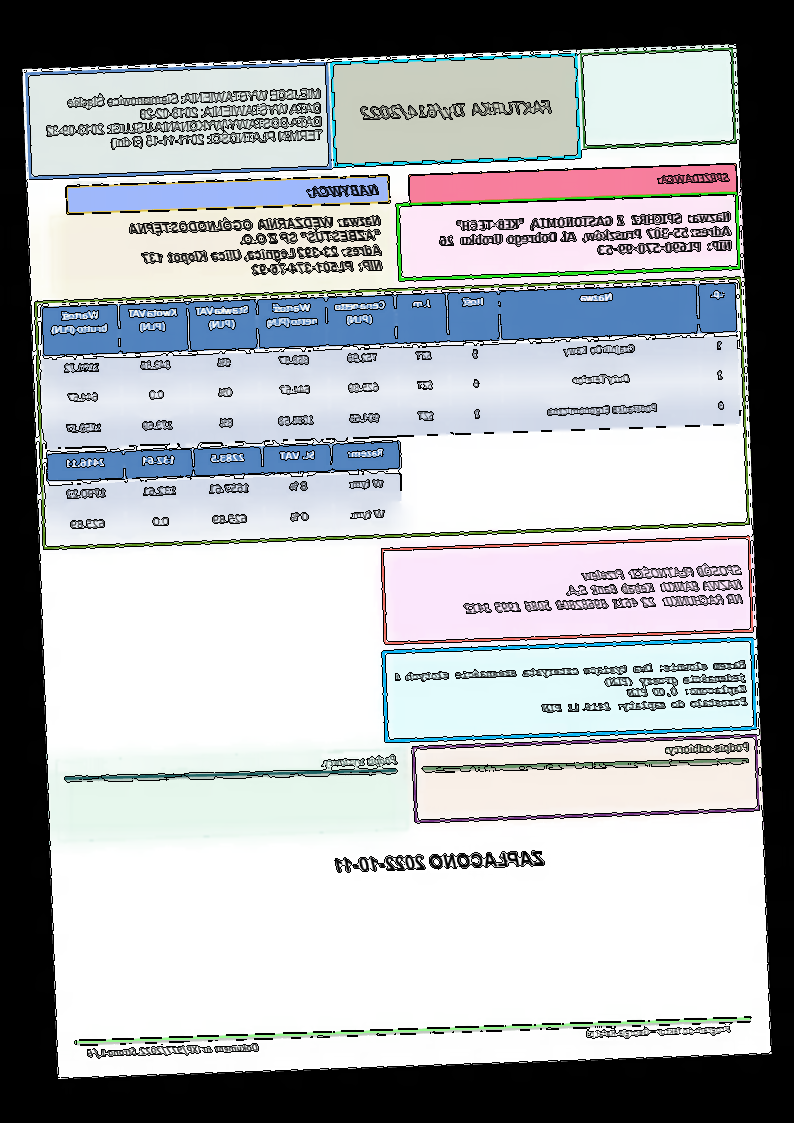Table: (40, 281, 743, 449), (45, 439, 404, 544)
TextBox: (395, 659, 749, 720), (43, 85, 325, 155), (128, 212, 385, 280), (438, 209, 733, 263), (462, 562, 746, 615), (332, 847, 547, 875), (360, 97, 554, 123), (86, 1041, 261, 1060), (585, 1023, 733, 1041), (320, 751, 401, 771), (664, 740, 751, 758), (656, 169, 732, 188), (305, 182, 382, 200)
